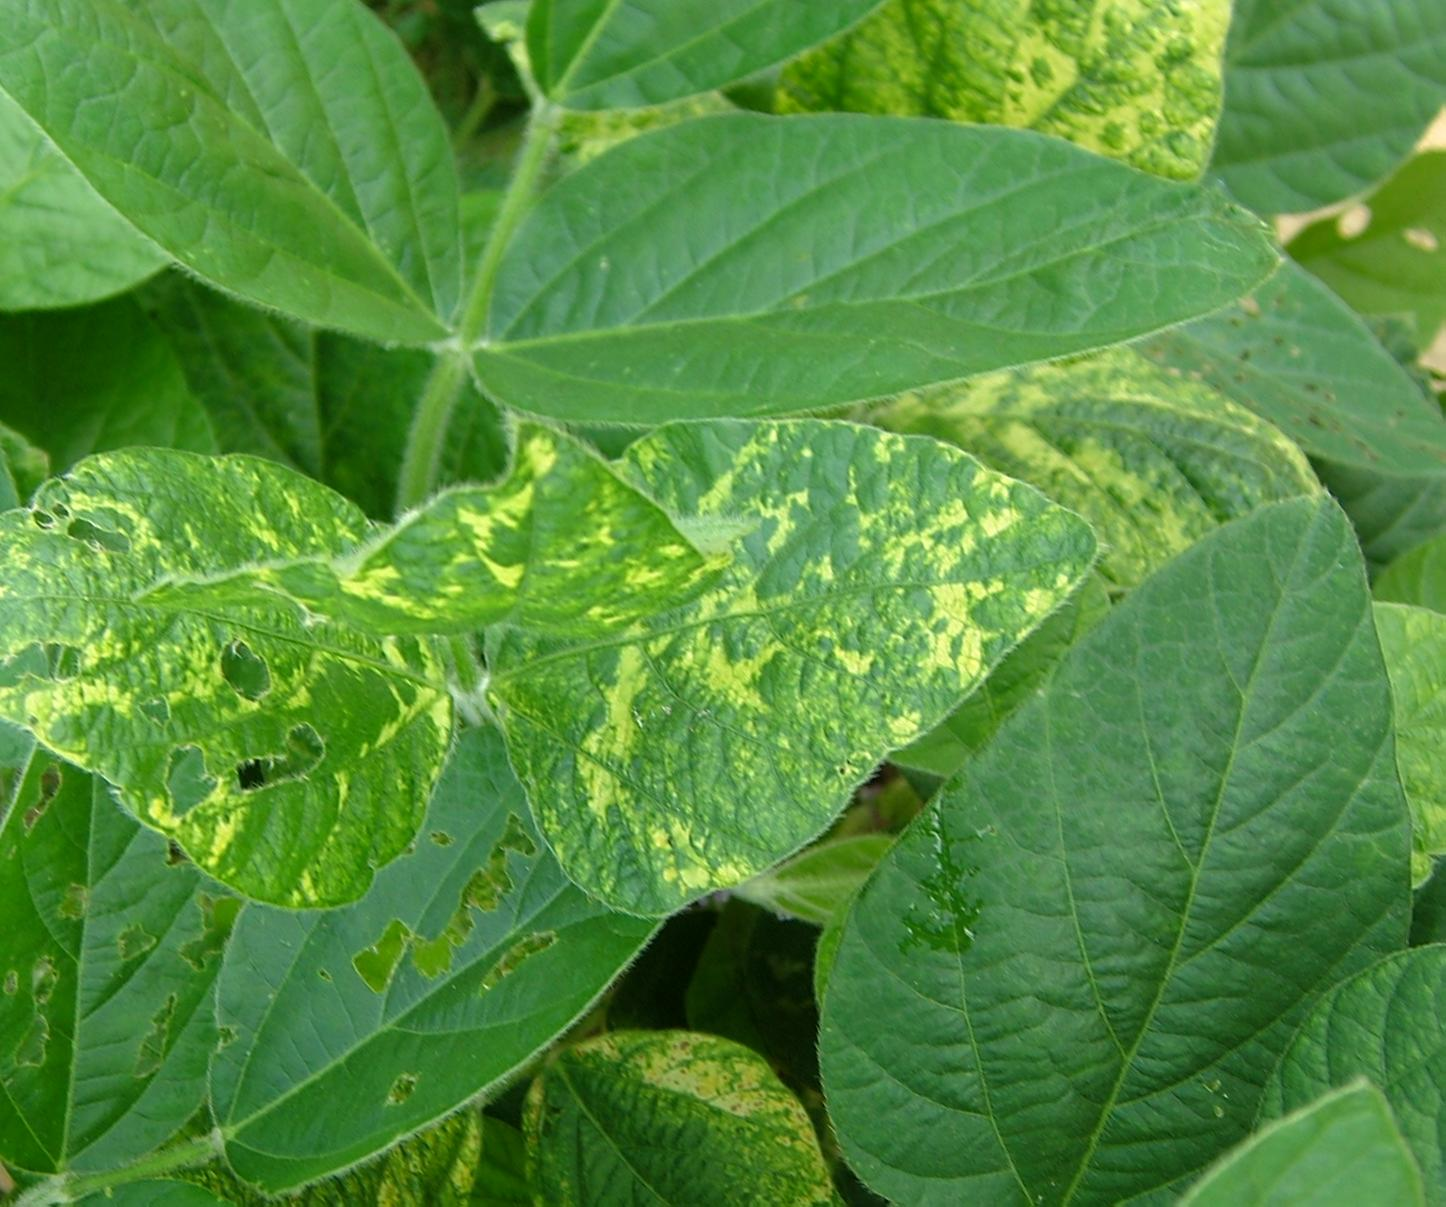Tomato leaf: (472, 101, 1251, 432)
Tomato leaf mosaic virus: (496, 442, 1068, 902), (0, 422, 454, 919)
